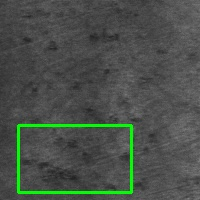rolled-in_scale: (19, 125, 131, 192)
